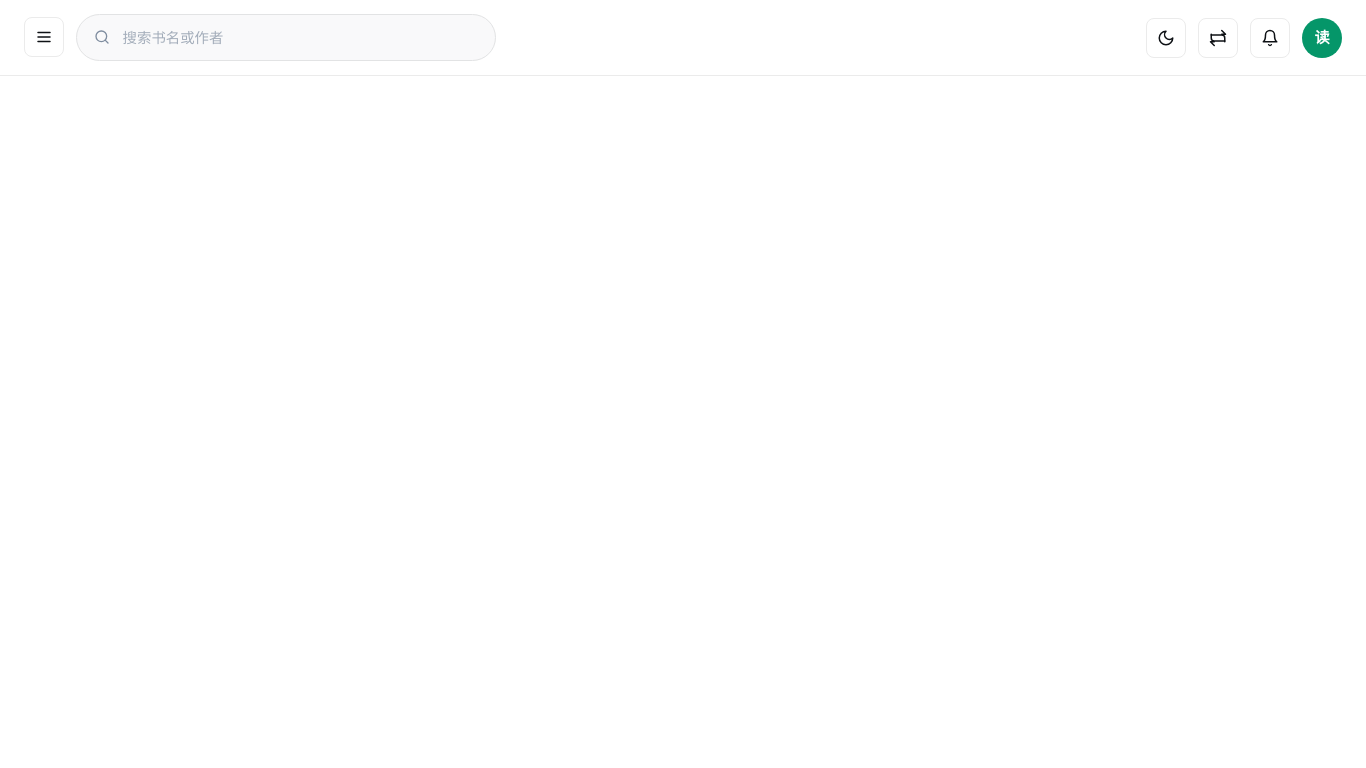
it: 未读笔记那一句 › 读成功且有一条新笔记时报数，也不带失败那句
This screenshot has width=1366, height=768.
Click the button named "通知" at (1270, 38), box [1250, 18, 1290, 58]
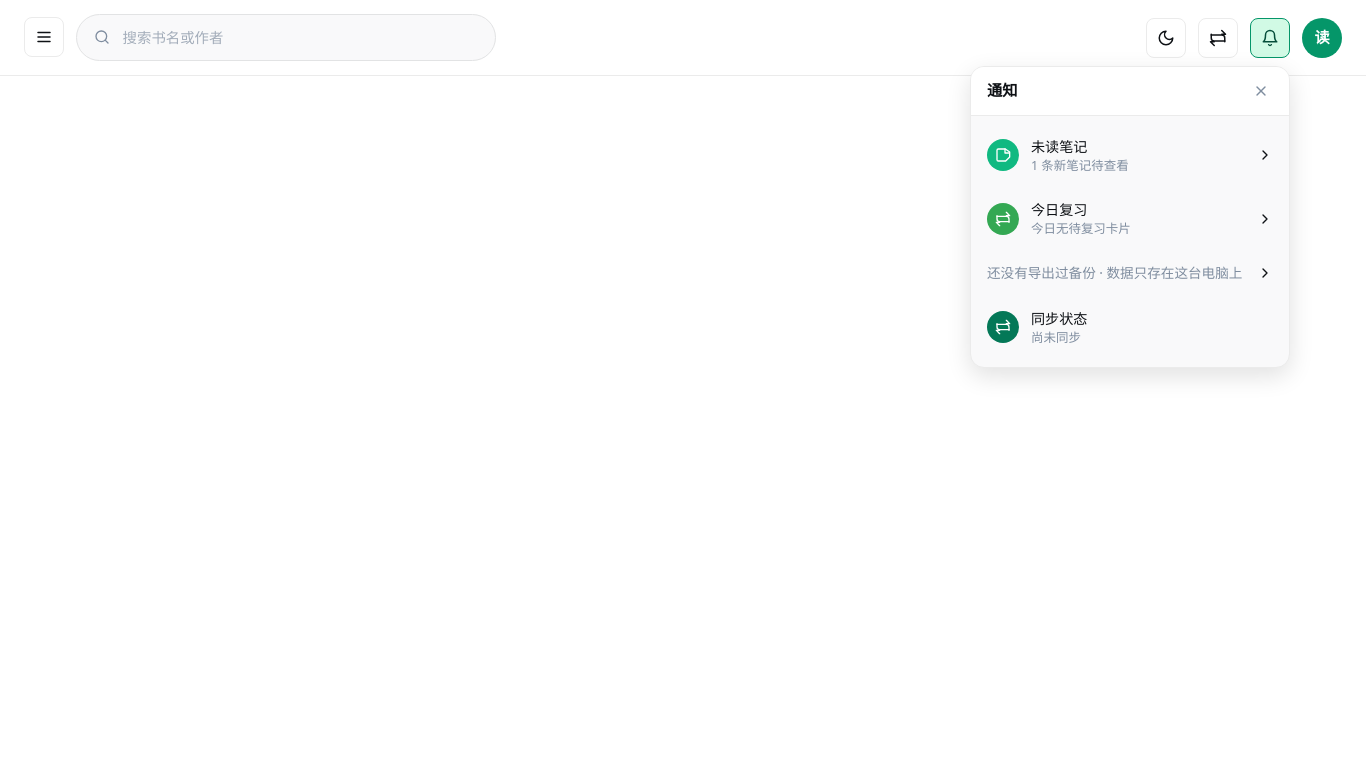
Now the dialog "通知" is shown, box [970, 66, 1290, 368]
Now the text "1 条新笔记待查看" is shown, box [1031, 157, 1129, 174]
